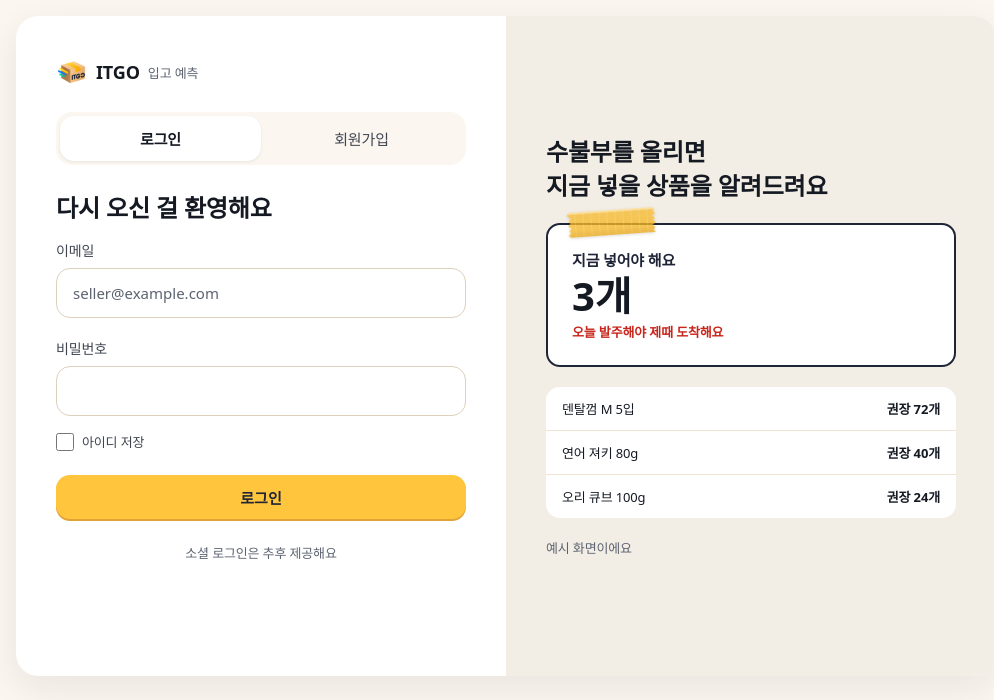
LoginPage › 서버에 연결하지 못하면 비밀번호 오류와 다른 문구를 보여준다
In the field labelled "이메일": (261, 293) 56,268 -> 466,318, type "seller@a.com"
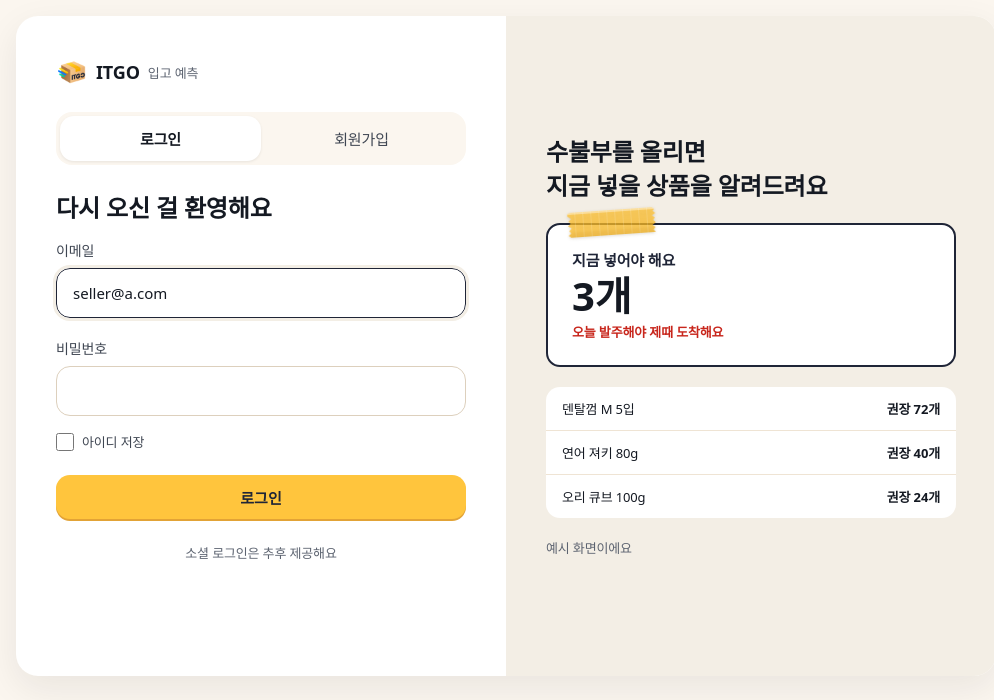
In the password field labelled "비밀번호": (261, 391) 56,366 -> 466,416, type "pass1234"
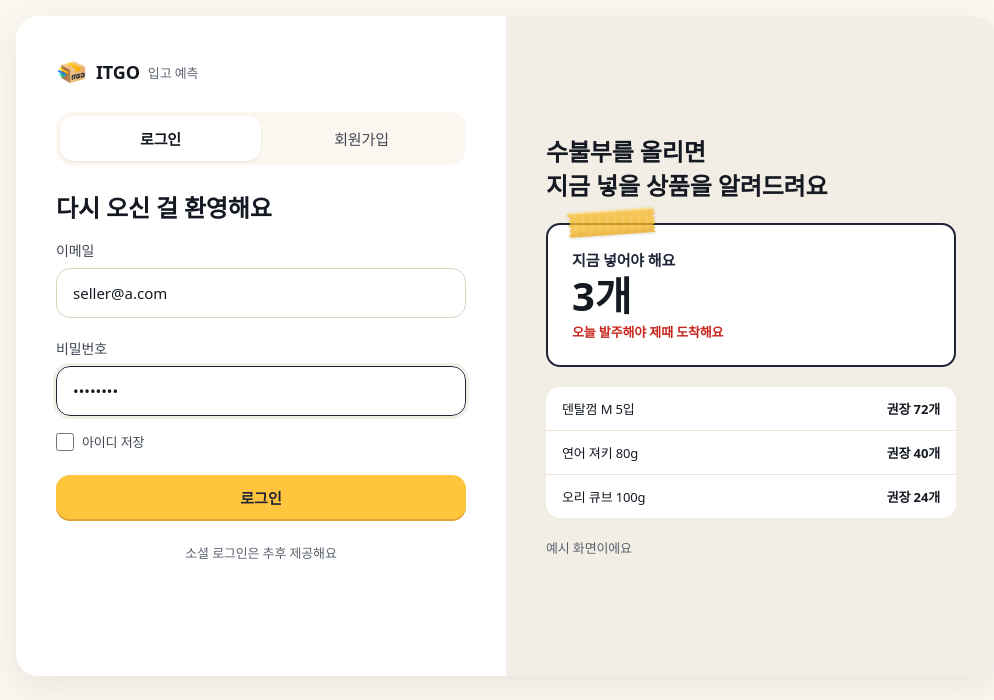
Click the button "로그인": (261, 497) 56,475 -> 466,519
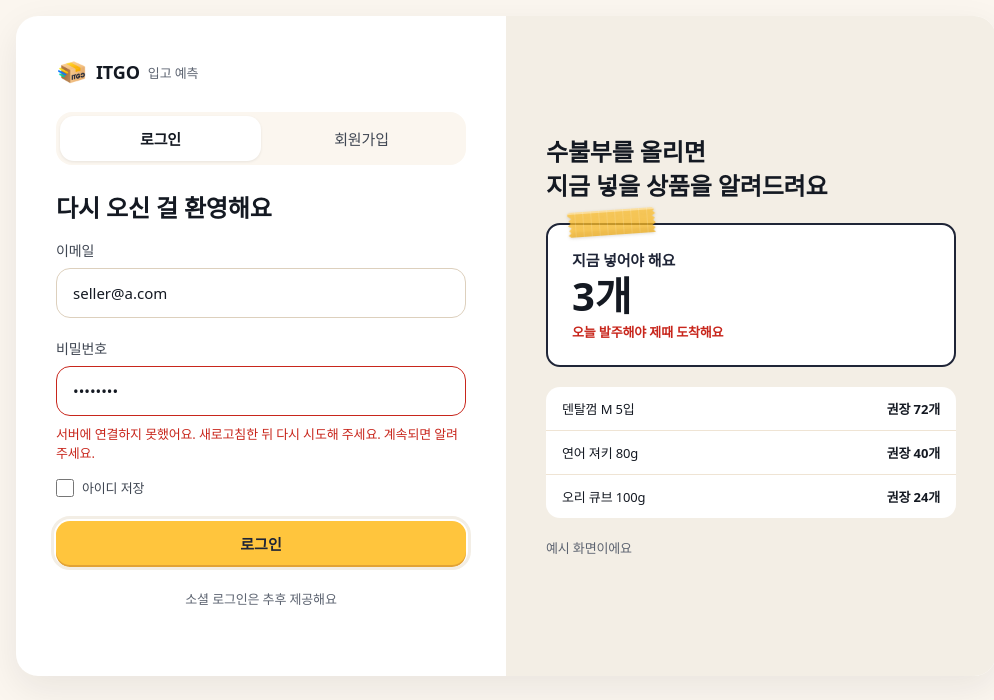
Now the message shows "서버에 연결하지 못했어요", box 56,425 -> 458,462
